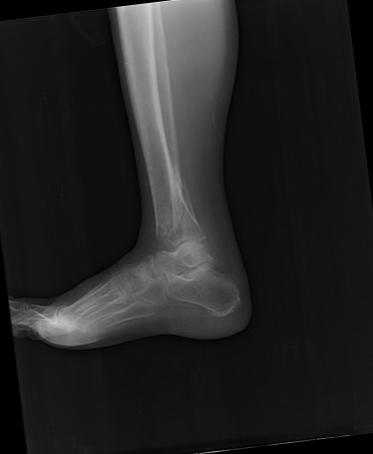fractured: (168, 160, 195, 239)
